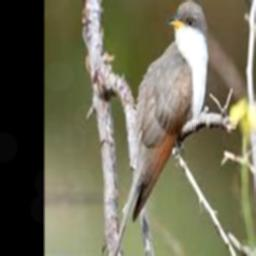Cuckoo: (103, 0, 210, 256)
